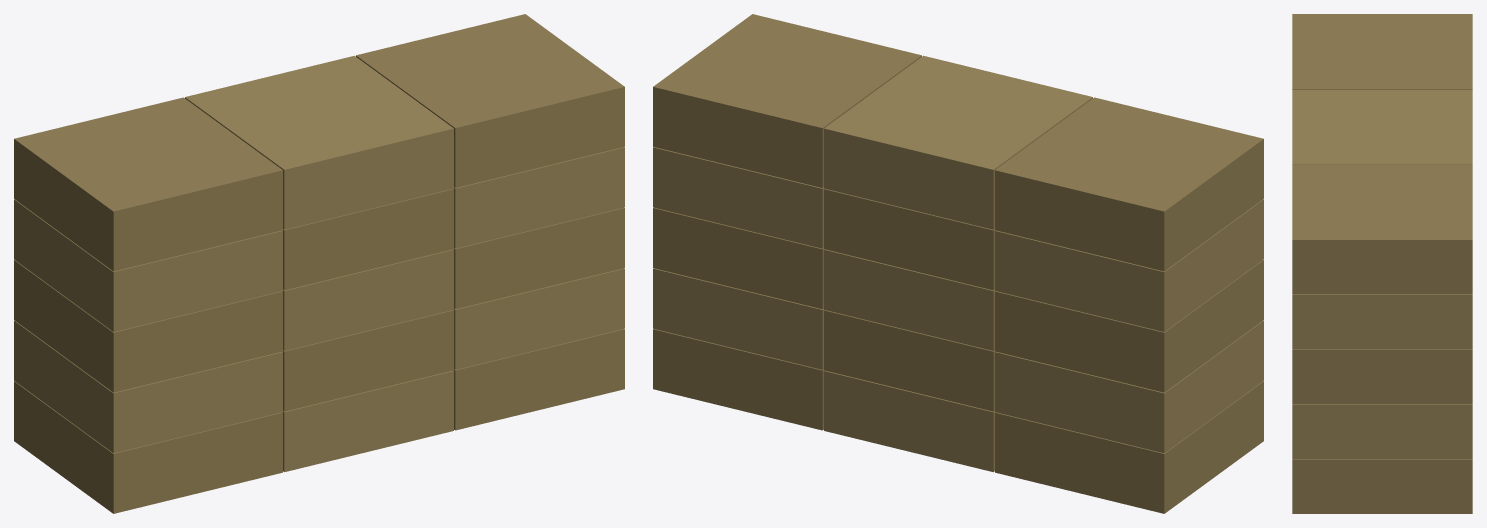
File: SM_Prop_farm_bales_1_LOD1.glb
3 renders of one model, left to right at view 1: azimuth 30°, elevation 25°; view 2: azimuth 150°, elevation 25°; view 3: azimuth 270°, elevation 25°, orthographic. The views are drawn at different scales.
Parts seen in each view (by area): view 1: SM_Prop_farm_bales_1_LOD1; view 2: SM_Prop_farm_bales_1_LOD1; view 3: SM_Prop_farm_bales_1_LOD1.
Boxes of the visible parts, left/top/right/bottom form: SM_Prop_farm_bales_1_LOD1: left=14, top=14, right=624, bottom=513; SM_Prop_farm_bales_1_LOD1: left=653, top=14, right=1263, bottom=513; SM_Prop_farm_bales_1_LOD1: left=1292, top=14, right=1472, bottom=513.
Size of the model in its own units: 7.24 by 4.09 by 2.44.
